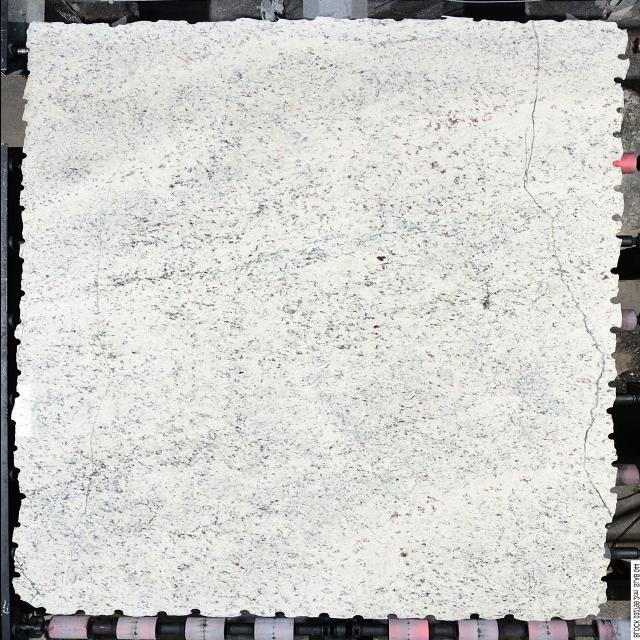chapa: (12, 18, 624, 620)
furo: (0, 578, 56, 617)
veio: (230, 607, 256, 620), (3, 567, 23, 583), (613, 50, 635, 64), (10, 489, 31, 503), (376, 611, 404, 621), (501, 610, 522, 622), (606, 482, 622, 497), (604, 266, 624, 278), (183, 607, 203, 619), (465, 610, 484, 622), (610, 75, 626, 89), (608, 156, 626, 168), (606, 458, 620, 473), (608, 181, 624, 194), (269, 610, 289, 620), (604, 378, 618, 392), (613, 102, 627, 116), (9, 334, 22, 348), (9, 464, 24, 476), (350, 612, 367, 622), (596, 572, 608, 586), (610, 210, 624, 222), (8, 388, 22, 400), (598, 550, 614, 560), (604, 432, 620, 442), (72, 606, 88, 616), (7, 368, 23, 378), (546, 615, 565, 623), (611, 129, 626, 139), (113, 609, 125, 621), (610, 296, 620, 310), (318, 610, 332, 620), (602, 408, 618, 416), (422, 615, 442, 621), (608, 326, 620, 334), (154, 612, 172, 616)
